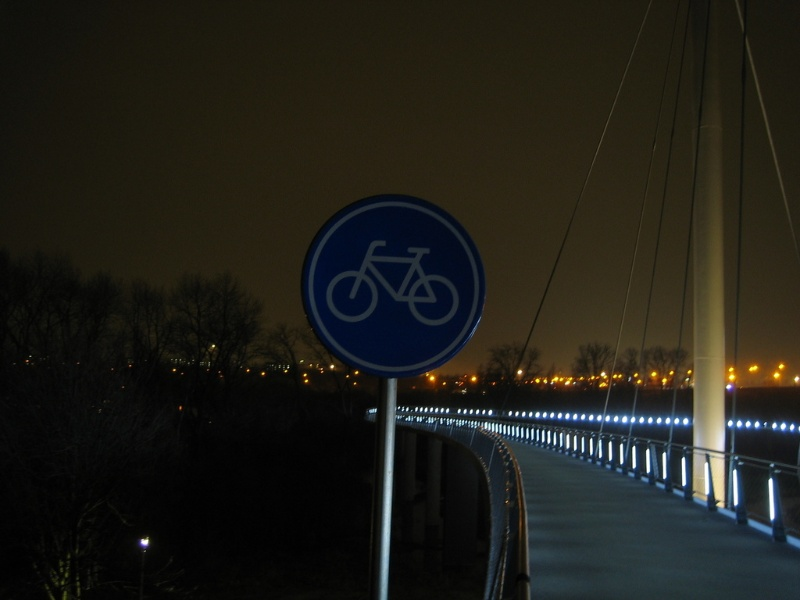cycle_route_ahead: (312, 197, 487, 366)
